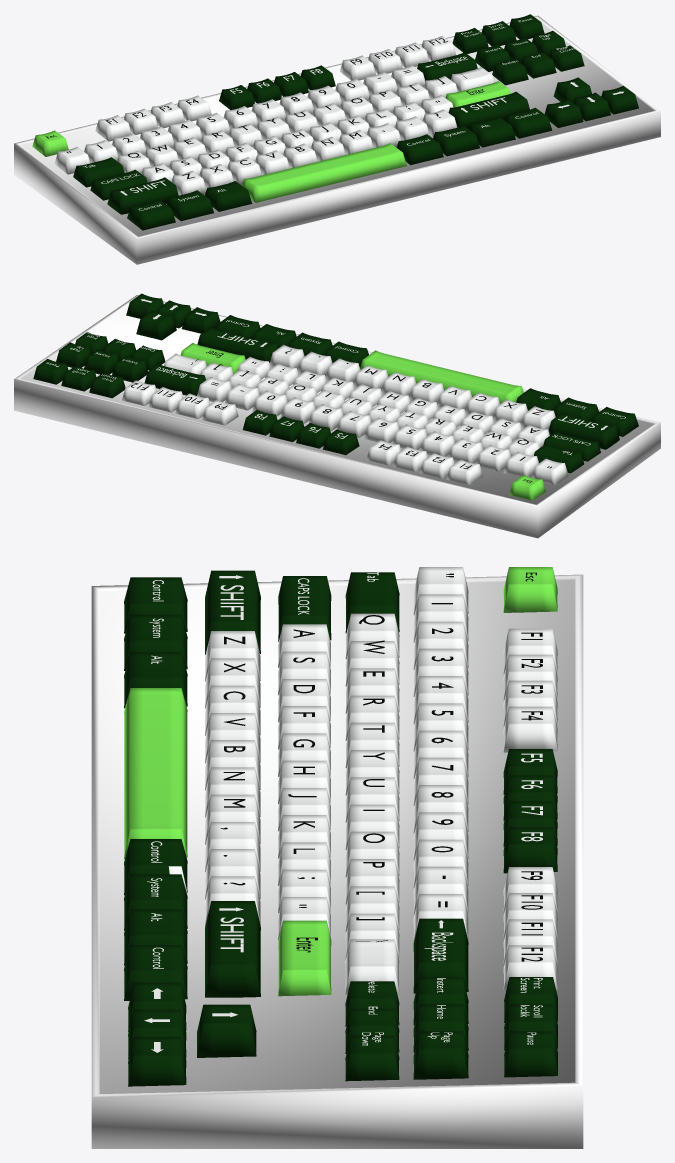
The model's file is teclado-75-botanical.glb.
3 renders of one model, top to bottom at view 1: azimuth 30°, elevation 25°; view 2: azimuth 150°, elevation 25°; view 3: azimuth 270°, elevation 25°, orthographic. The views are drawn at different scales.
Parts seen in each view (by area): view 1: Cube.005, Mechanical Keyboard.014, Texto.023; view 2: Cube.005, Mechanical Keyboard.014, Texto.023; view 3: Cube.005, Mechanical Keyboard.014, Texto.023.
Boxes of the visible parts, box(x1,y1,x2,y2) form: Cube.005: box(32, 14, 638, 230); Mechanical Keyboard.014: box(14, 15, 660, 264); Texto.023: box(97, 70, 466, 179); Cube.005: box(33, 293, 638, 500); Mechanical Keyboard.014: box(14, 295, 660, 538); Texto.023: box(191, 349, 544, 460); Cube.005: box(124, 567, 557, 1086); Mechanical Keyboard.014: box(91, 574, 583, 1148); Texto.023: box(220, 603, 453, 941).
Size of the model in its own units: 0.3693 by 0.0287 by 0.15.
